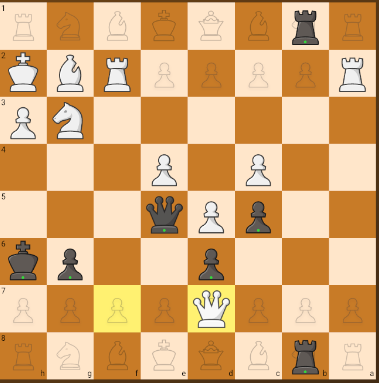bk: (2, 238, 45, 285)
bp: (1, 51, 43, 96), (195, 241, 231, 283), (239, 198, 277, 236), (53, 244, 87, 283)
bq: (142, 190, 185, 236)
br: (282, 3, 324, 48), (287, 335, 323, 380)
wb: (49, 53, 90, 95)
wn: (48, 99, 92, 140)
wp: (5, 102, 42, 142), (148, 154, 183, 187), (196, 198, 227, 234), (243, 155, 276, 187)
wq: (190, 289, 234, 332)
wr: (98, 50, 135, 97), (336, 54, 370, 93)
